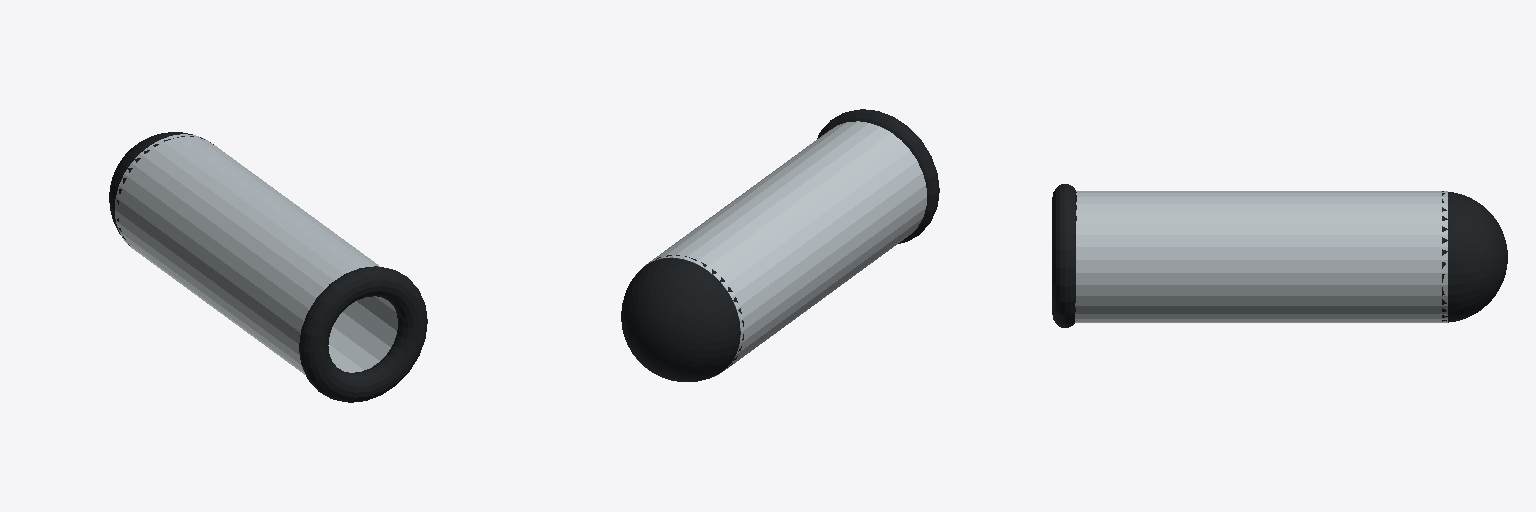
3 views of the same model, side by side, from view 1: azimuth 30°, elevation 25°; view 2: azimuth 150°, elevation 25°; view 3: azimuth 270°, elevation 25° (orthographic).
Parts seen in each view (by area): view 1: obj_0; view 2: obj_0; view 3: obj_0.
Boxes of the visible parts, box(x1,y1,x2,y2) form: obj_0: box(109, 132, 427, 402); obj_0: box(621, 109, 939, 381); obj_0: box(1052, 184, 1507, 327).
Bounding box in the file's own units: 22 × 22 × 69.